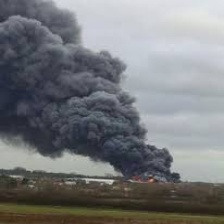smoke: (1, 1, 180, 183)
